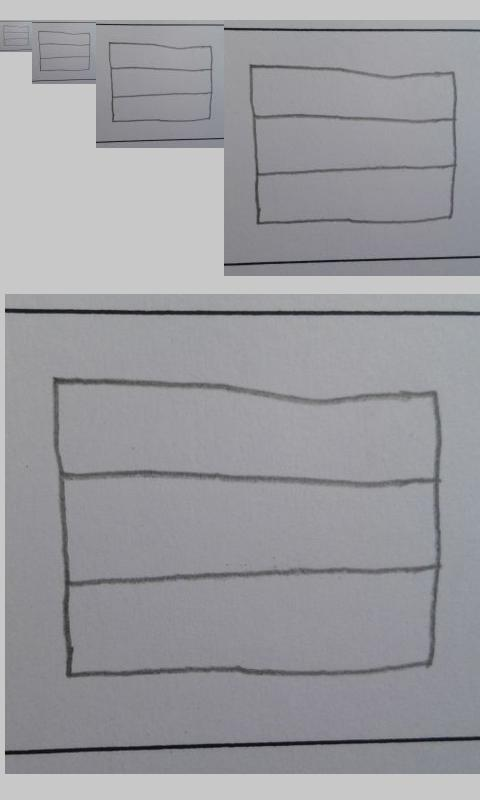list_view: (50, 370, 445, 683), (248, 63, 460, 226), (107, 40, 214, 124), (37, 30, 92, 72), (2, 24, 30, 47)
